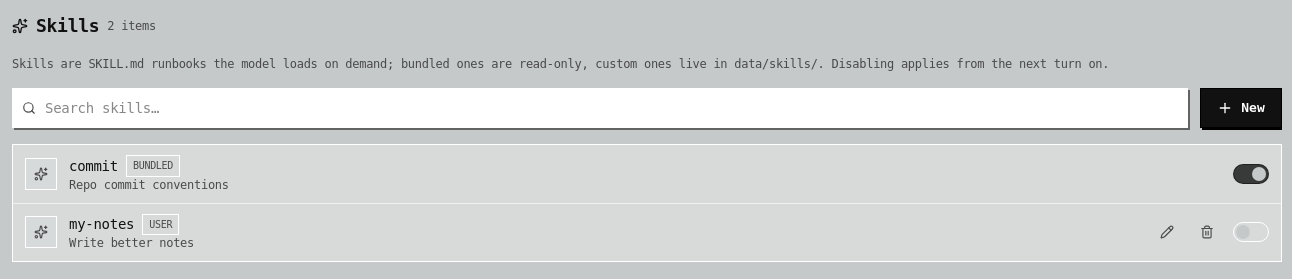
Test case: SkillsSection › filters rows by search text
This screenshot has width=1292, height=279.
Expected: the text "commit" is shown, [69,156,118,176]
Type "notes" into the field with placeholder "Search skills…" at (600, 108), box [12,88,1188,128]
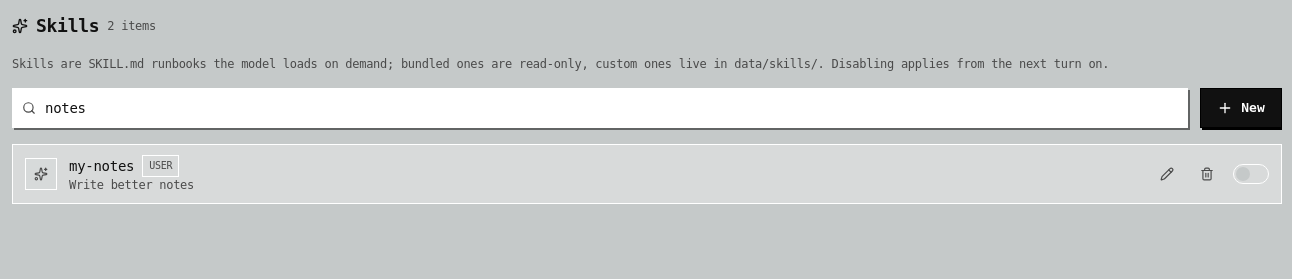
Expected: the text "my-notes" is shown, [69,156,134,176]
Now the text "commit" is gone
